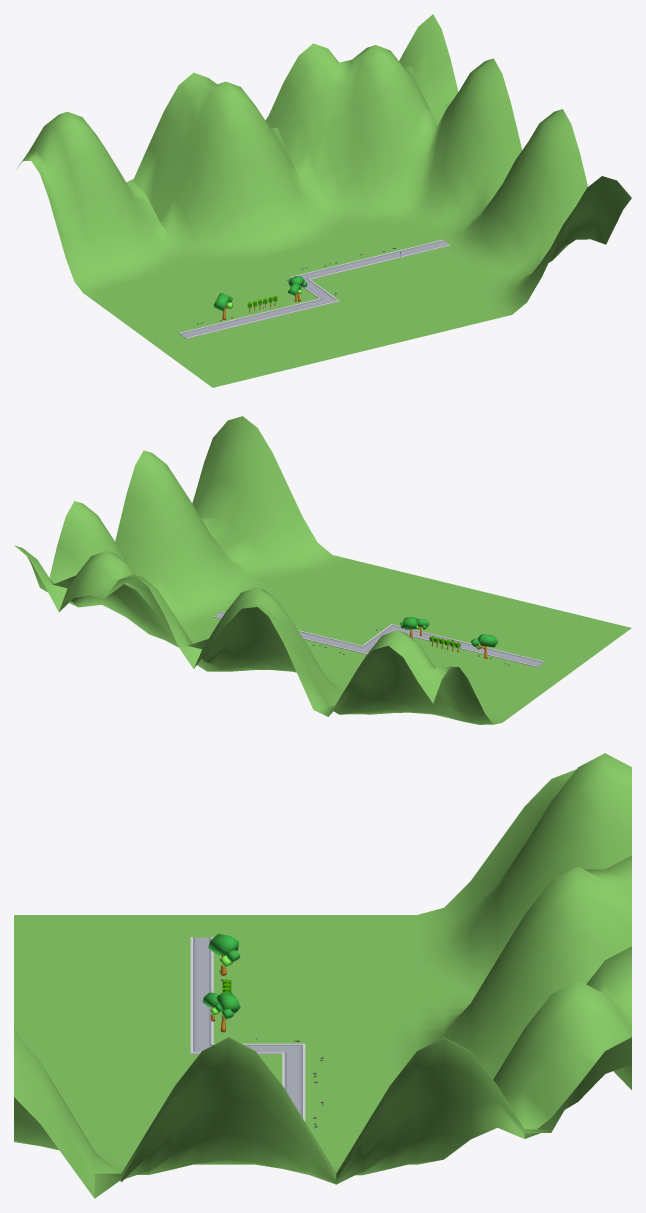
File: opening_ground.fbx
3 renders of one model, top to bottom at view 1: azimuth 30°, elevation 25°; view 2: azimuth 150°, elevation 25°; view 3: azimuth 270°, elevation 25°, orthographic. The views are drawn at different scales.
Visible parts, largest first — view 1: 큐브.001_큐브.001; view 2: 큐브.001_큐브.001; view 3: 큐브.001_큐브.001.
Part boxes in pixels (x1,y1,x2,y2): 큐브.001_큐브.001: (17,14,631,387); 큐브.001_큐브.001: (14,416,631,724); 큐브.001_큐브.001: (14,753,631,1198).
Size of the model in its own units: 10010 by 2932 by 8222.
